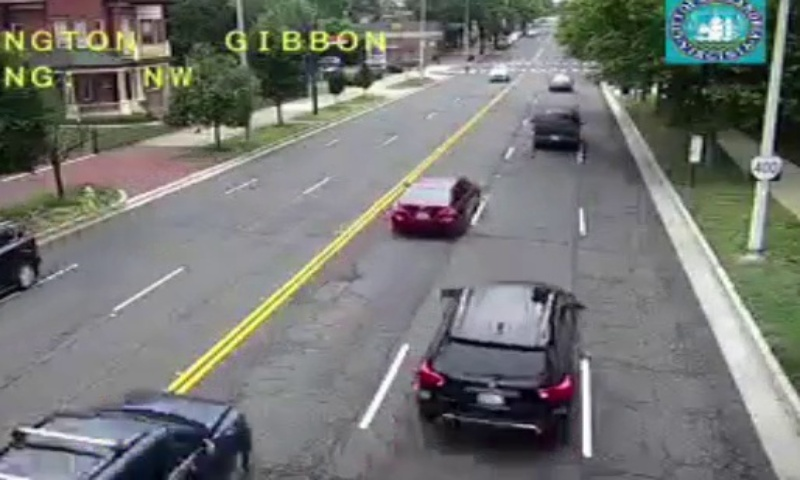car: (417, 281, 577, 442), (1, 396, 245, 480), (389, 178, 479, 234), (532, 112, 580, 149)
